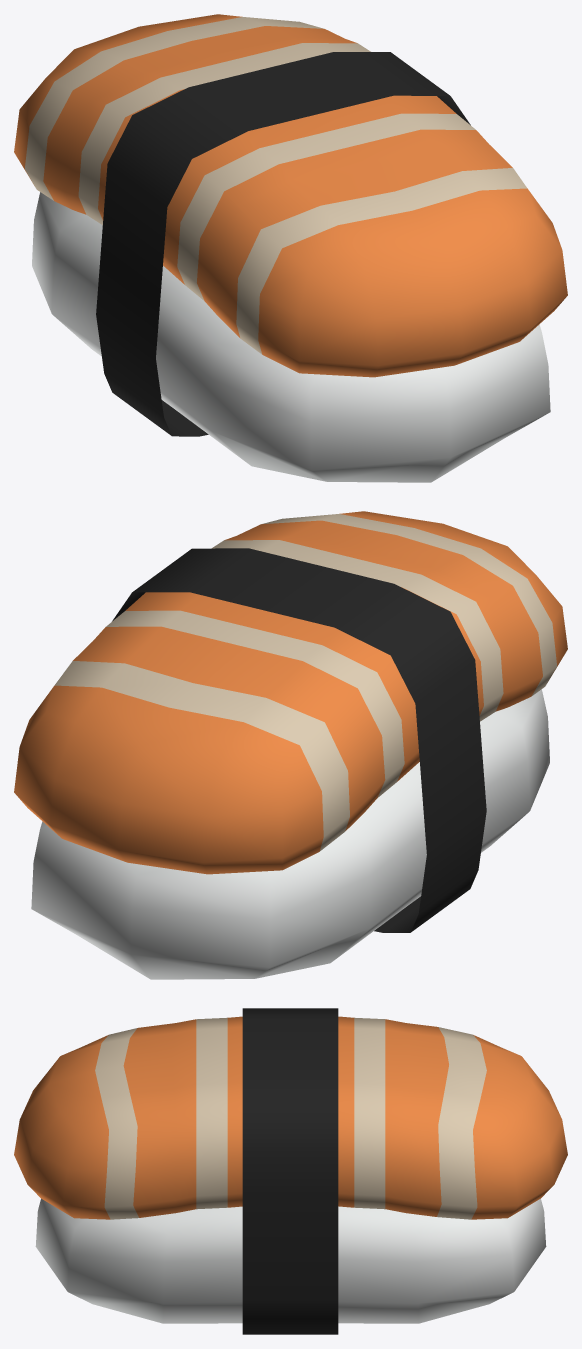
The model's file is sushi-Food_SalmonNigiri.glb.
3 views of the same model, one above another, from view 1: azimuth 30°, elevation 25°; view 2: azimuth 150°, elevation 25°; view 3: azimuth 270°, elevation 25° (orthographic). The views are drawn at different scales.
Visible parts, largest first — view 1: Food_SalmonNigiri; view 2: Food_SalmonNigiri; view 3: Food_SalmonNigiri.
Boxes of the visible parts, x1,y1,x2,y2 form: Food_SalmonNigiri: [14, 14, 567, 482]; Food_SalmonNigiri: [14, 511, 567, 979]; Food_SalmonNigiri: [14, 1008, 567, 1334].
Size of the model in its own units: 0.3557 by 0.3141 by 0.6512.
1 material, 1 textured.
